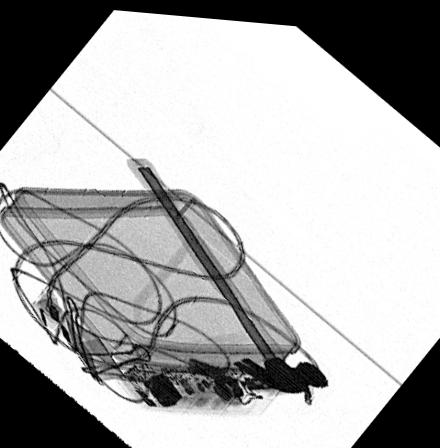Hammer: (125, 156, 327, 388)
